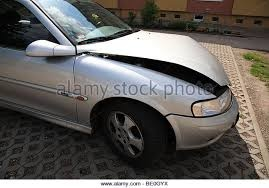Dent: (108, 38, 236, 83)
